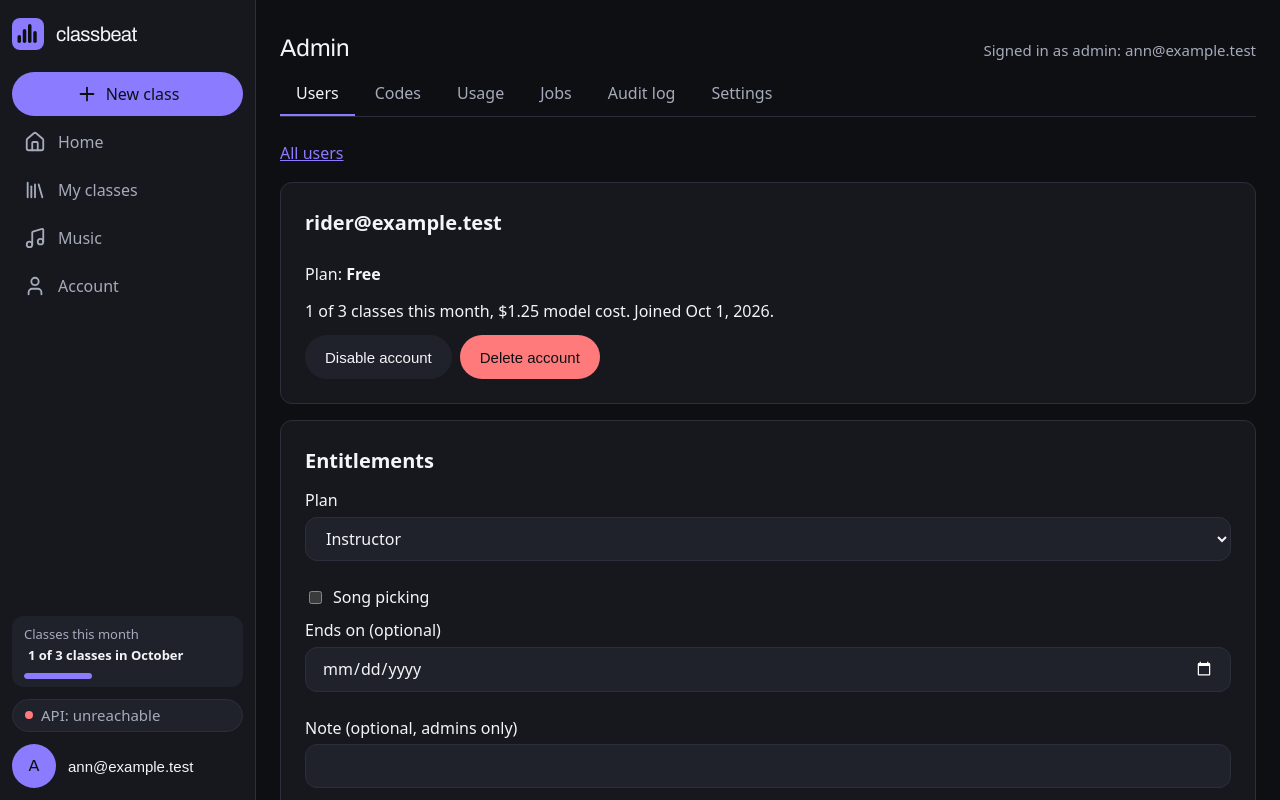
Test: step-up › asks for a code on stepup_required, repeats the write once and keeps no code
Click the button "Disable account" at (378, 357), box [305,335,452,379]
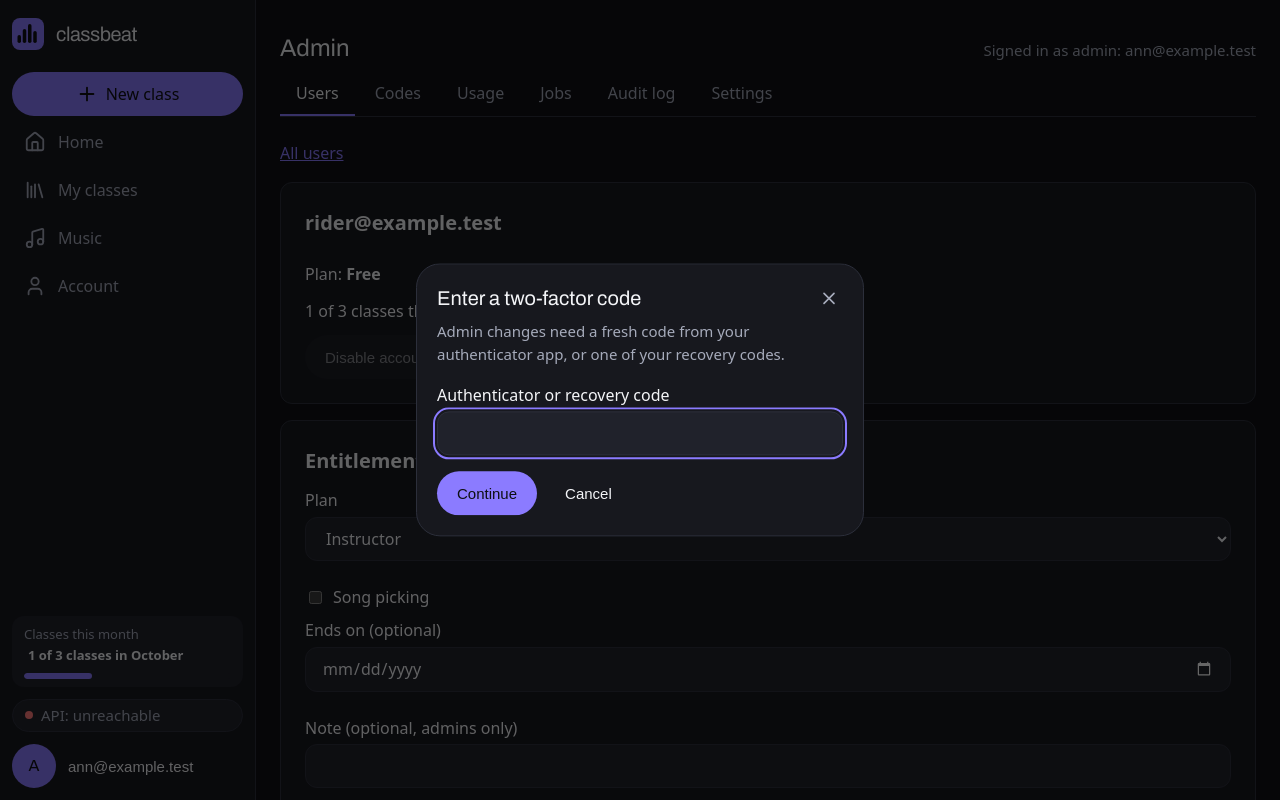
Type "424242" into the field labelled "Authenticator or recovery code" at (640, 434), box [437,412,843,456]
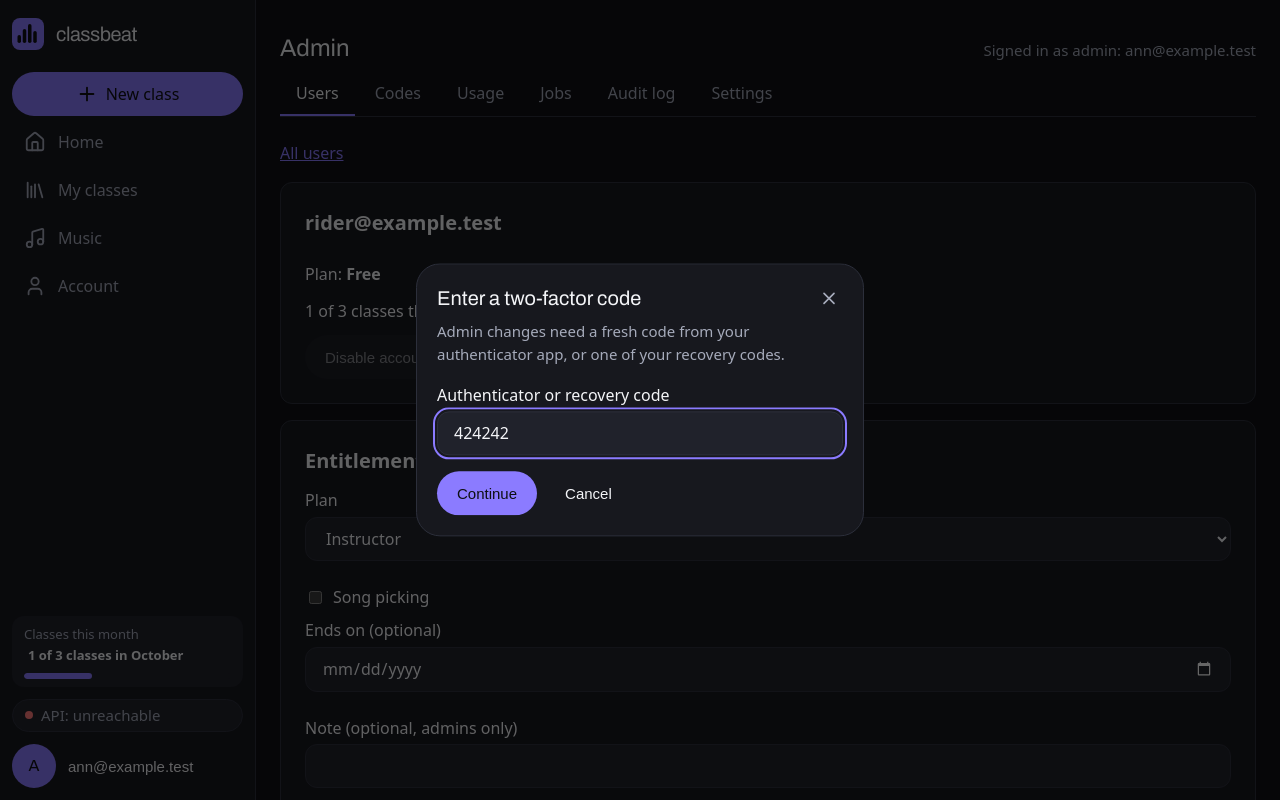
Click the button "Continue" at (487, 494), box [437,472,537,516]
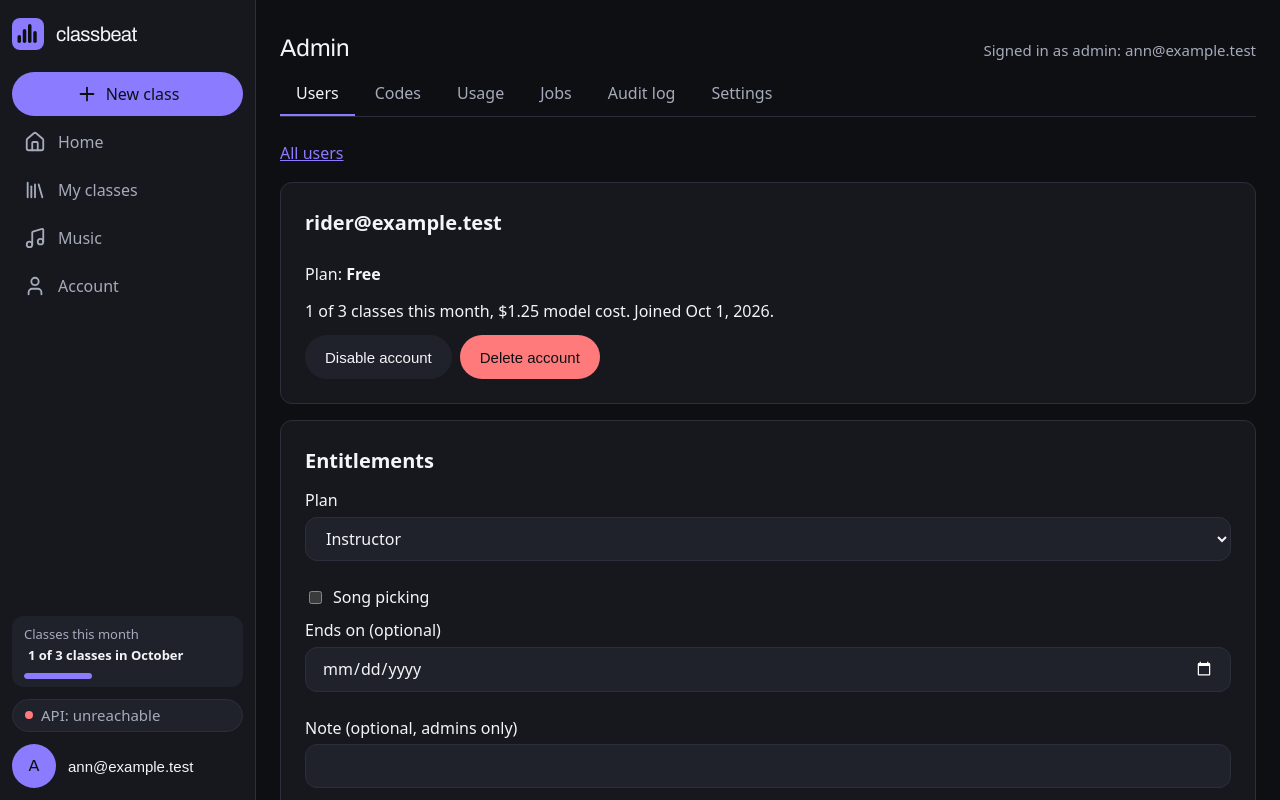
Check: the text "424242" is not shown
Check: the dialog is gone
